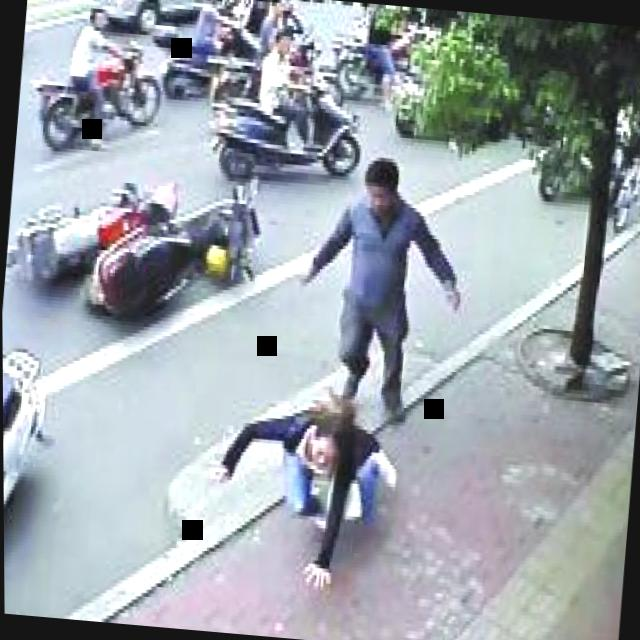Fall-Detected: (161, 344, 421, 600)
